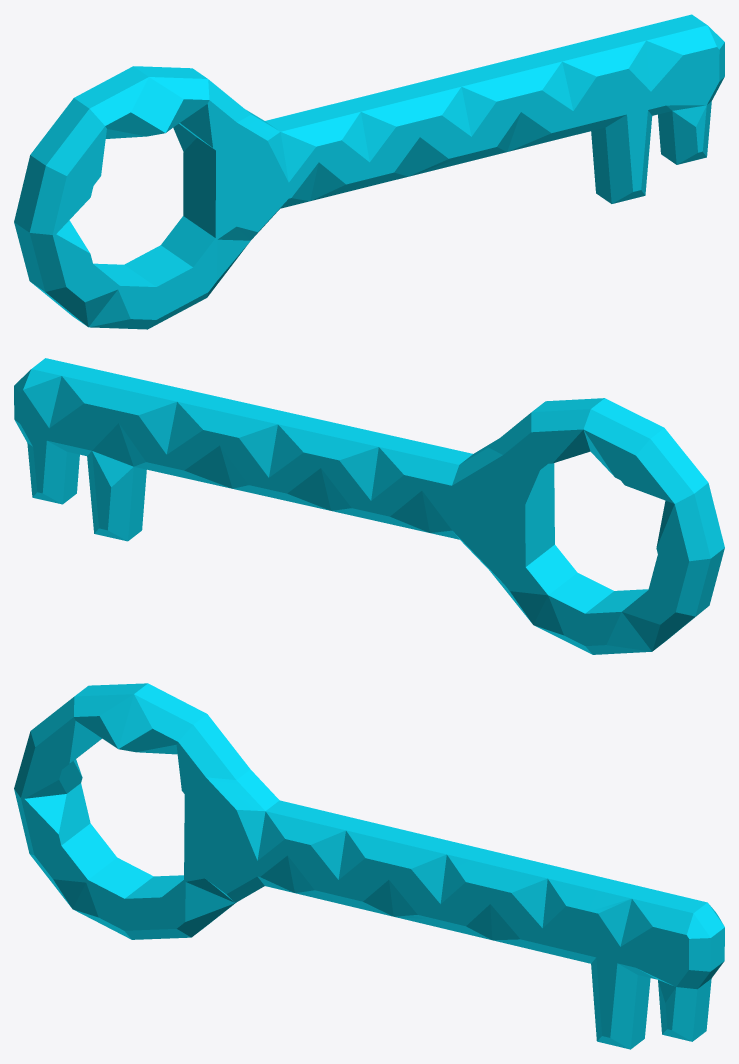
The model's file is blue_key.glb.
The picture shows the model from 3 angles, top to bottom: view 1: azimuth 30°, elevation 25°; view 2: azimuth 150°, elevation 25°; view 3: azimuth 330°, elevation 25°; orthographic projection. The views are drawn at different scales.
Parts seen in each view (by area): view 1: Circle.025; view 2: Circle.025; view 3: Circle.025.
Boxes of the visible parts, x1,y1,x2,y2 form: Circle.025: (14,14,724,329); Circle.025: (14,358,724,654); Circle.025: (14,683,724,1049).
Size of the model in its own units: 1.89 by 0.6456 by 0.2172.
Materials: 1 (1 with a texture image).
